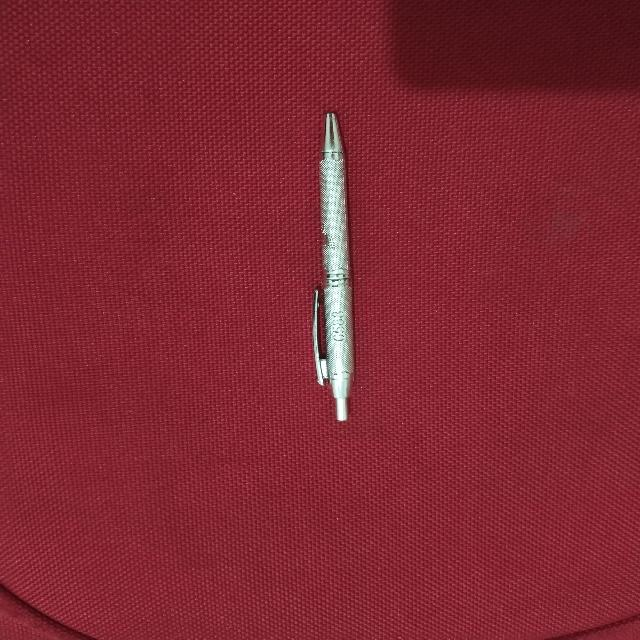signature pen: (313, 113, 353, 420)
